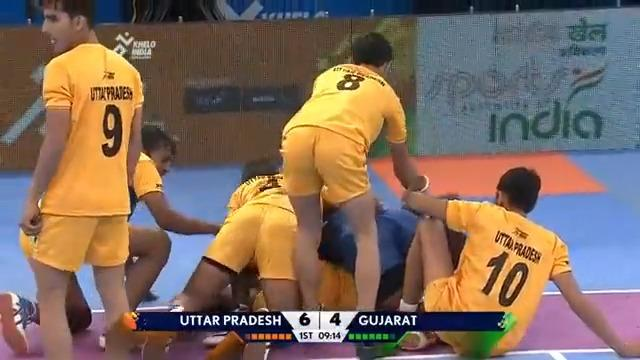Player: (165, 155, 420, 348), (397, 165, 638, 358), (18, 124, 223, 348), (18, 0, 145, 358), (278, 30, 430, 313)
